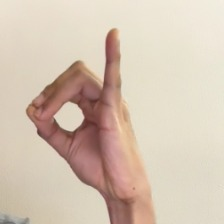D: (20, 26, 157, 194)
